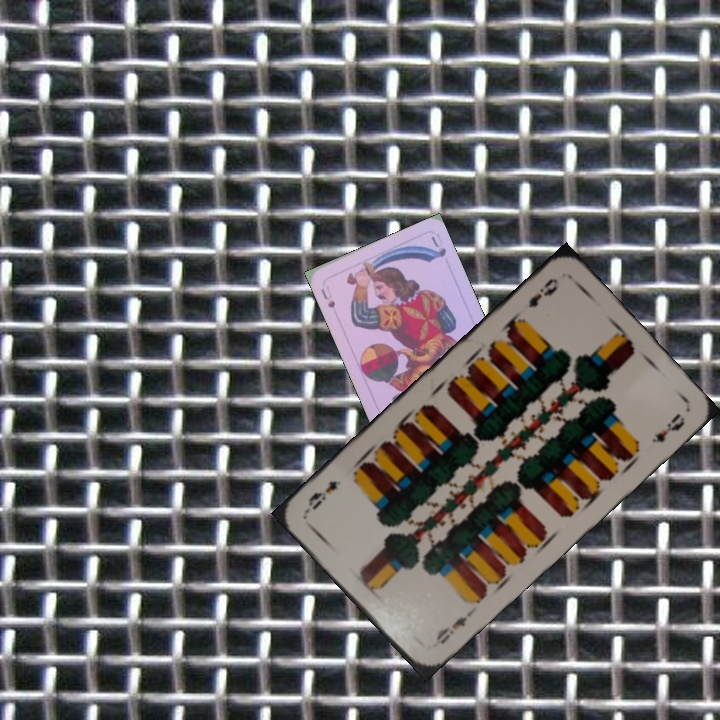E9: (428, 606, 476, 651), (524, 274, 562, 311)
SU: (317, 282, 338, 311)
